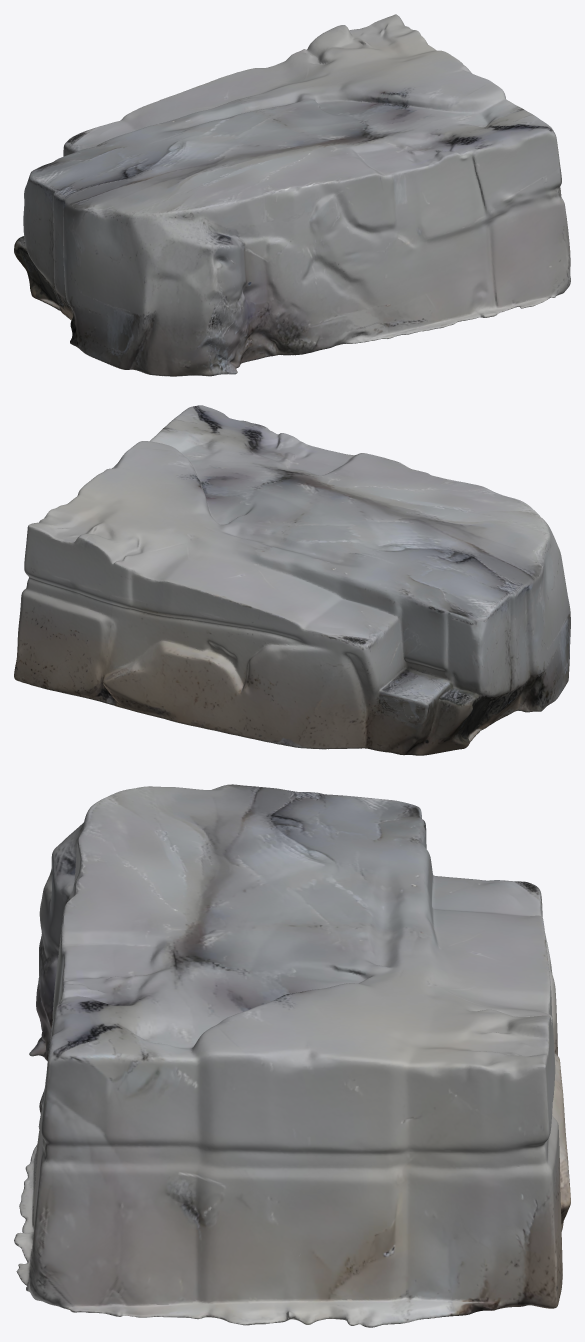
Rendered from calcita.glb.
3 views of the same model, one above another, from view 1: azimuth 30°, elevation 25°; view 2: azimuth 150°, elevation 25°; view 3: azimuth 270°, elevation 25° (orthographic). The views are drawn at different scales.
Visible parts, largest first — view 1: tripo_node_61dc7e9f-f525-4405-9379-adf82df5f272; view 2: tripo_node_61dc7e9f-f525-4405-9379-adf82df5f272; view 3: tripo_node_61dc7e9f-f525-4405-9379-adf82df5f272.
Boxes of the visible parts, x1=… form: tripo_node_61dc7e9f-f525-4405-9379-adf82df5f272: x1=14, y1=14, x2=570, y2=376; tripo_node_61dc7e9f-f525-4405-9379-adf82df5f272: x1=14, y1=405, x2=570, y2=755; tripo_node_61dc7e9f-f525-4405-9379-adf82df5f272: x1=14, y1=784, x2=570, y2=1327.
Bounding box in the file's own units: 1 × 0.3373 × 0.691.
Materials: 1 (1 with a texture image).
